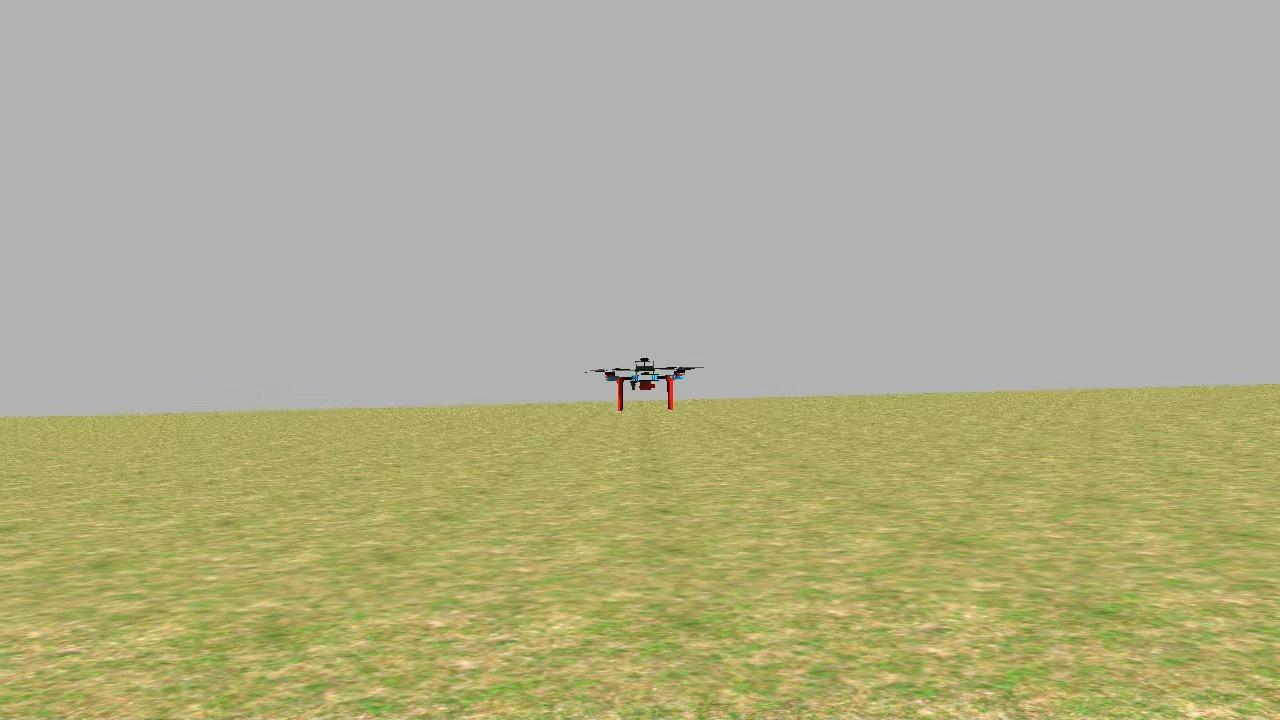UAV: (596, 344, 689, 414)
